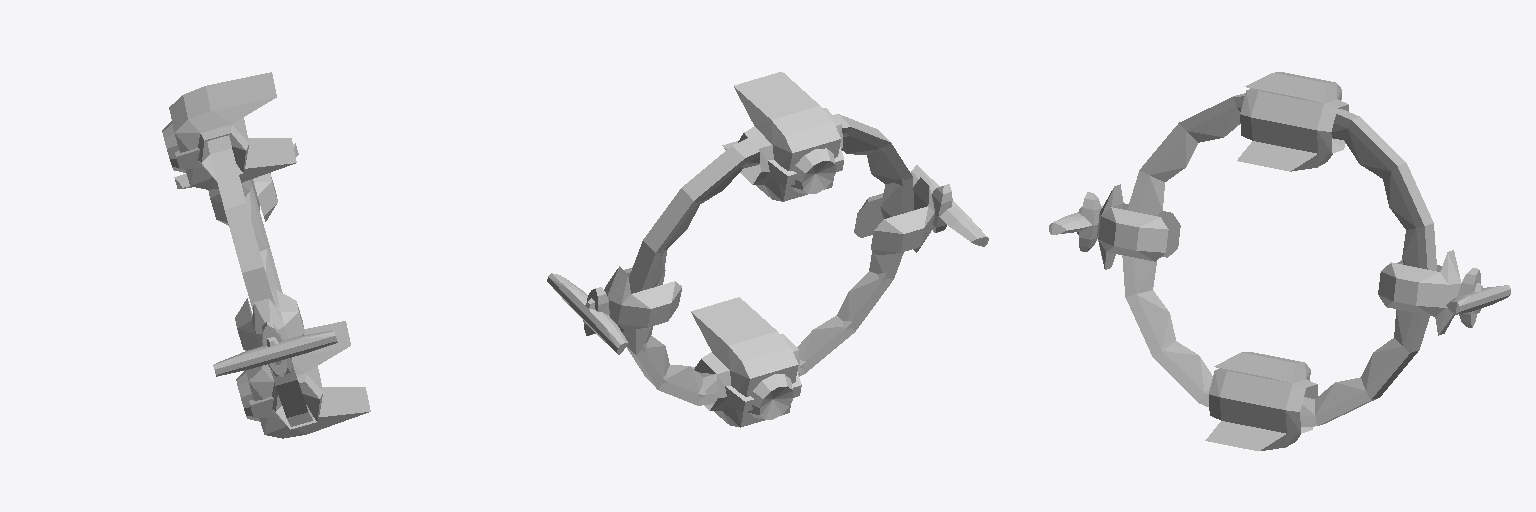
File: stg300_MotGate_c4_03.obj
3 renders of one model, left to right at view 1: azimuth 30°, elevation 25°; view 2: azimuth 150°, elevation 25°; view 3: azimuth 270°, elevation 25°, orthographic.
Visible parts, largest first — view 1: polygon0, polygon6, polygon4, polygon7; view 2: polygon0, polygon6, polygon7, polygon1, polygon2, polygon5, polygon3; view 3: polygon0, polygon7, polygon6, polygon2, polygon1, polygon5, polygon4.
Boxes of the visible parts, x1=… form: polygon0: x1=162, y1=72, x2=370, y2=438; polygon6: x1=207, y1=135, x2=312, y2=426; polygon4: x1=213, y1=322, x2=337, y2=376; polygon7: x1=241, y1=181, x2=280, y2=311; polygon0: x1=604, y1=72, x2=934, y2=427; polygon6: x1=623, y1=114, x2=913, y2=405; polygon7: x1=643, y1=136, x2=902, y2=394; polygon1: x1=648, y1=161, x2=923, y2=419; polygon2: x1=547, y1=273, x2=628, y2=354; polygon5: x1=910, y1=165, x2=986, y2=241; polygon3: x1=552, y1=273, x2=627, y2=344; polygon0: x1=1097, y1=72, x2=1460, y2=450; polygon7: x1=1134, y1=107, x2=1418, y2=415; polygon6: x1=1122, y1=93, x2=1436, y2=426; polygon2: x1=1446, y1=268, x2=1510, y2=327; polygon1: x1=1114, y1=223, x2=1418, y2=305; polygon5: x1=1053, y1=205, x2=1103, y2=239; polygon4: x1=1049, y1=192, x2=1101, y2=251.
Bounding box in the file's own units: 162 × 201 × 246.